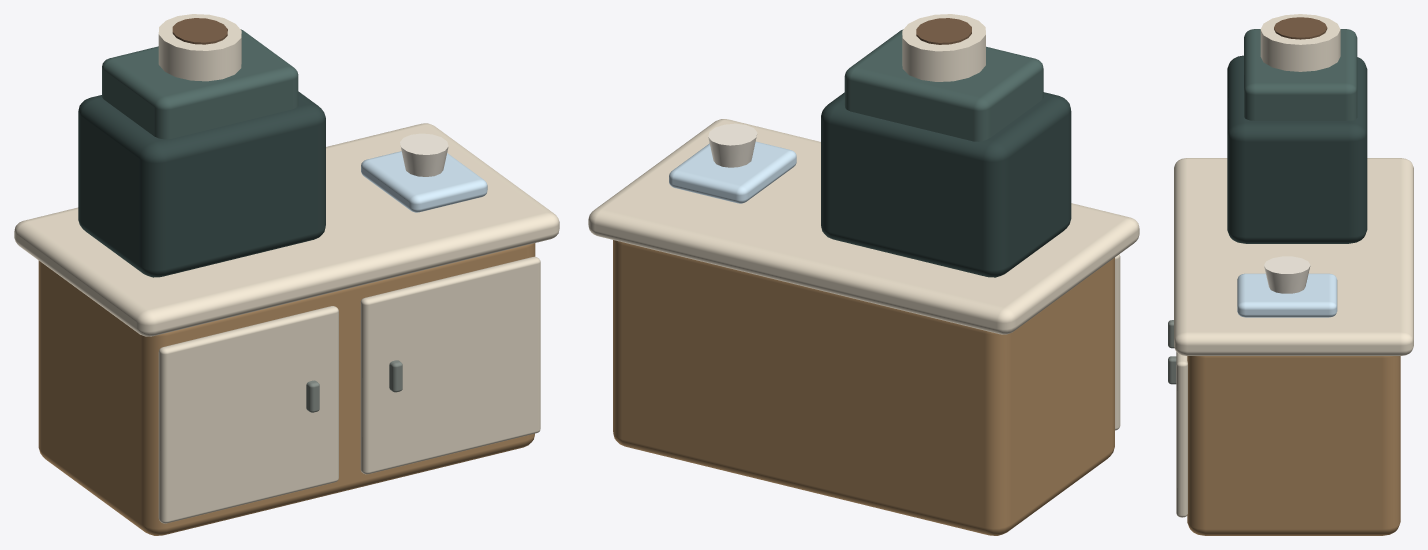
The model's file is coffee.glb.
3 views of the same model, side by side, from view 1: azimuth 30°, elevation 25°; view 2: azimuth 150°, elevation 25°; view 3: azimuth 270°, elevation 25° (orthographic). The views are drawn at different scales.
Parts seen in each view (by area): view 1: coffee-station; view 2: coffee-station; view 3: coffee-station.
Boxes of the visible parts, box(x1,y1,x2,y2) form: coffee-station: box(14, 14, 559, 535); coffee-station: box(588, 14, 1139, 535); coffee-station: box(1168, 14, 1413, 535).
Bounding box in the file's own units: 1.55 × 1.55 × 0.88.
